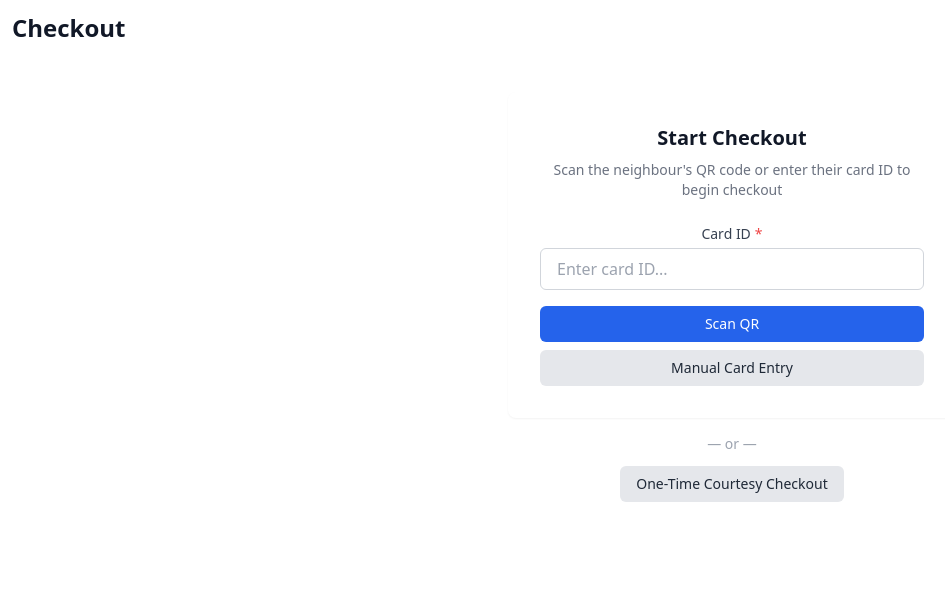
CheckoutPage › shows error for unrecognized card
Type "UNKNOWN-CARD" into the field with test id "card-id-input".
click(732, 269); type("UNKNOWN-CARD")  # box top-left (540, 248), bottom-right (924, 290)
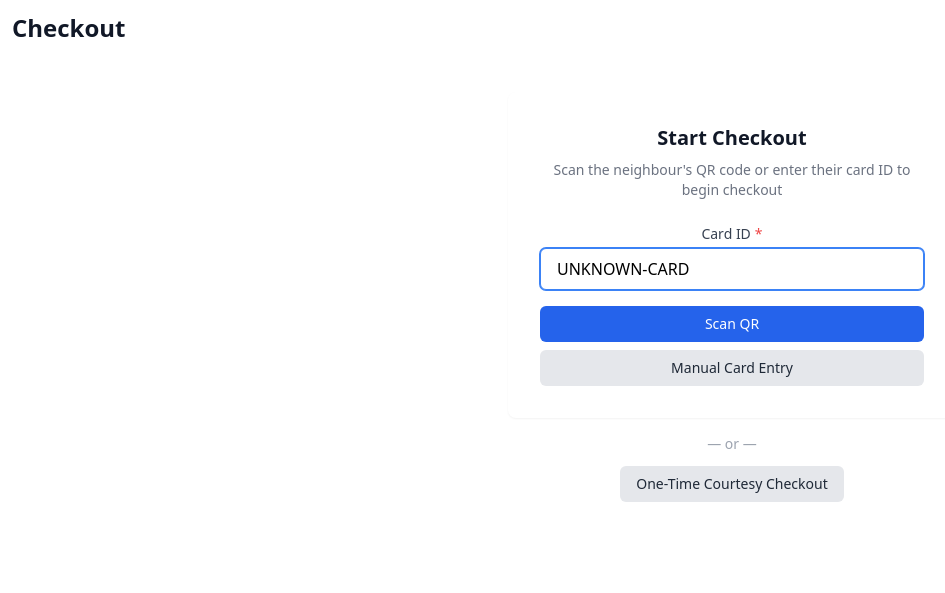
Click the button with test id "manual-card-button".
click(732, 368)  # box top-left (540, 350), bottom-right (924, 386)
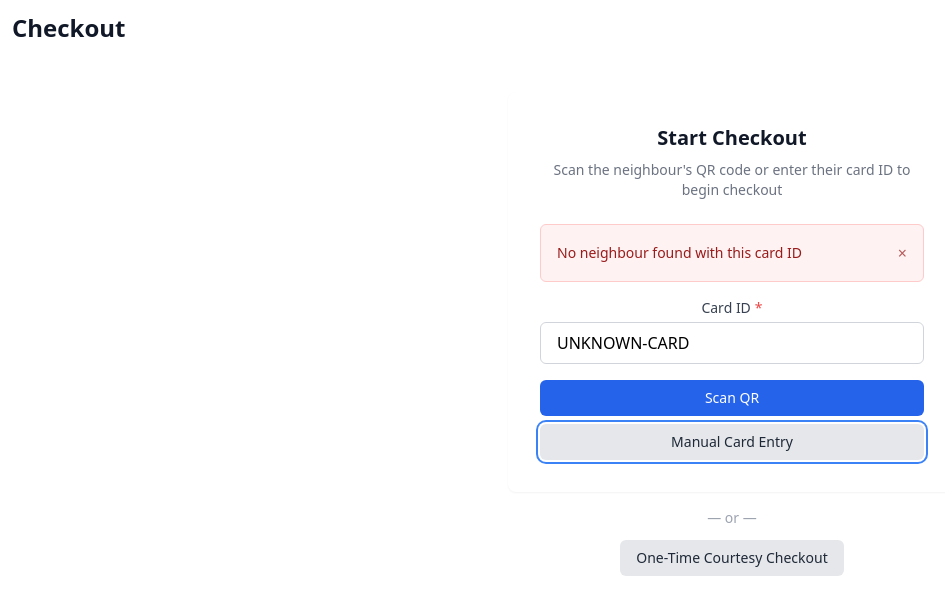
Check: the text "No neighbour found with this card ID" is shown, box top-left (557, 243), bottom-right (802, 263)
